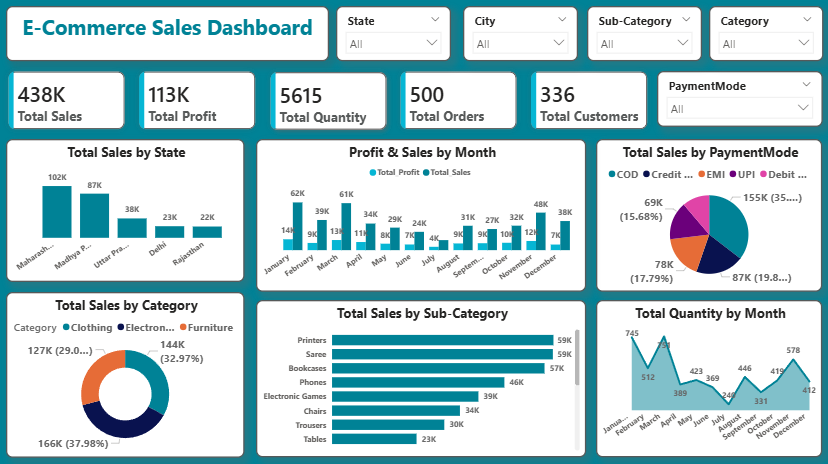

Layout of this report page (visuals, bound fields, positions):
{"tool":"powerbi","page":{"name":"Dashboard","canvas":[1280,780],"ordinal":0},"visuals":[{"type":"textbox","box":[11.7,11.7,496.7,85],"z":0},{"type":"cardVisual","fields":{"Data":["All_Measures.Total_Sales","All_Measures.Total_Profit","All_Measures.Total_Quantity","All_Measures.Total_Orders","All_Measures.Total_Customers"]},"box":[0,96.7,1015,121.7],"z":1000},{"type":"clusteredColumnChart","title":"Total Sales by Top 5 State","fields":{"Category":["Orders.State"],"Y":["All_Measures.Total_Sales"]},"box":[12,215.3,350.9,275.1],"z":2000},{"type":"clusteredColumnChart","fields":{"Y":["All_Measures.Total_Sales"],"Category":["Details.Category"]},"box":[12,505.1,350.9,261.8],"z":3000},{"type":"lineClusteredColumnComboChart","title":"Profit & Sales by Month","fields":{"Category":["Date_Table.Date.Variation.Date Hierarchy.Month"],"Y":["All_Measures.Total_Profit","All_Measures.Total_Sales"]},"box":[374.8,215.3,530.3,275.1],"z":5000},{"type":"clusteredColumnChart","fields":{"Category":["Details.Sub-Category"],"Y":["All_Measures.Total_Sales"]},"box":[374.8,505.1,530.3,261.8],"z":6000},{"type":"lineChart","fields":{"Category":["Date_Table.Date.Variation.Date Hierarchy.Month"],"Y":["All_Measures.Total_Quantity"]},"box":[917.1,505.1,353.6,261.8],"z":7000},{"type":"slicer","fields":{"Values":["Orders.State"]},"box":[520.2,12.1,177.4,84.9],"z":8000},{"type":"slicer","fields":{"Values":["Orders.City"]},"box":[715.8,12.1,177.4,84.9],"z":9000},{"type":"slicer","fields":{"Values":["Details.PaymentMode"]},"box":[1014.6,112.2,254.8,86.4],"z":10000},{"type":"slicer","fields":{"Values":["Details.Sub-Category"]},"box":[905.4,12.1,177.4,84.9],"z":11000},{"type":"slicer","fields":{"Values":["Details.Category"]},"box":[1093.5,12.1,175.9,84.9],"z":12000},{"type":"pieChart","fields":{"Category":["Details.PaymentMode"],"Y":["All_Measures.Total_Sales"]},"box":[915.8,215.3,353.6,275.1],"z":12001}]}

Visuals, with their boxes on the page's 1280x780 design canvas (x1, y1, x2, y2). These are canvas units, not pixel positions in the 828x464 screenshot, which may show the page scaled, cropped or inside an application window:
textbox: bbox=(12, 12, 508, 97)
cardVisual - All_Measures.Total_Sales x All_Measures.Total_Profit: bbox=(0, 97, 1015, 218)
"Total Sales by Top 5 State" clusteredColumnChart: bbox=(12, 215, 363, 490)
clusteredColumnChart - All_Measures.Total_Sales x Details.Category: bbox=(12, 505, 363, 767)
"Profit & Sales by Month" lineClusteredColumnComboChart: bbox=(375, 215, 905, 490)
clusteredColumnChart - Details.Sub-Category x All_Measures.Total_Sales: bbox=(375, 505, 905, 767)
lineChart - Date_Table.Date.Variation.Date Hierarchy.Month x All_Measures.Total_Quantity: bbox=(917, 505, 1271, 767)
slicer - Orders.State: bbox=(520, 12, 698, 97)
slicer - Orders.City: bbox=(716, 12, 893, 97)
slicer - Details.PaymentMode: bbox=(1015, 112, 1269, 199)
slicer - Details.Sub-Category: bbox=(905, 12, 1083, 97)
slicer - Details.Category: bbox=(1094, 12, 1269, 97)
pieChart - Details.PaymentMode x All_Measures.Total_Sales: bbox=(916, 215, 1269, 490)
